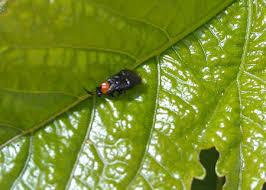Insects: (82, 64, 143, 101)
